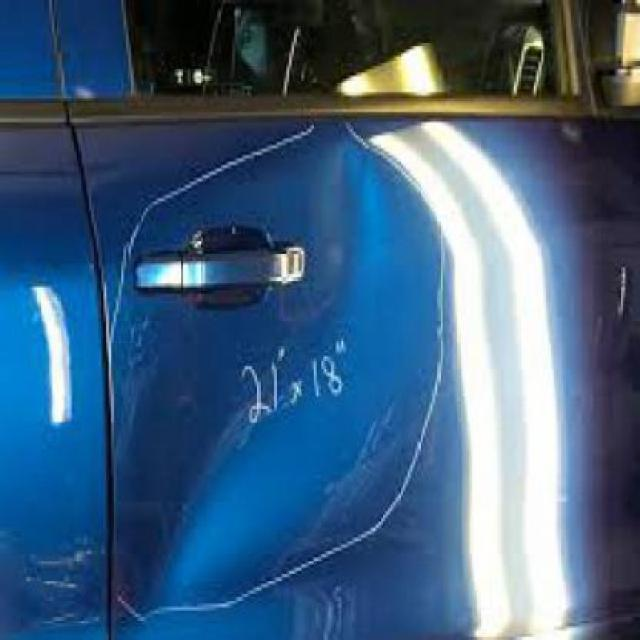paint-trace: (108, 117, 451, 624), (226, 330, 370, 433)
